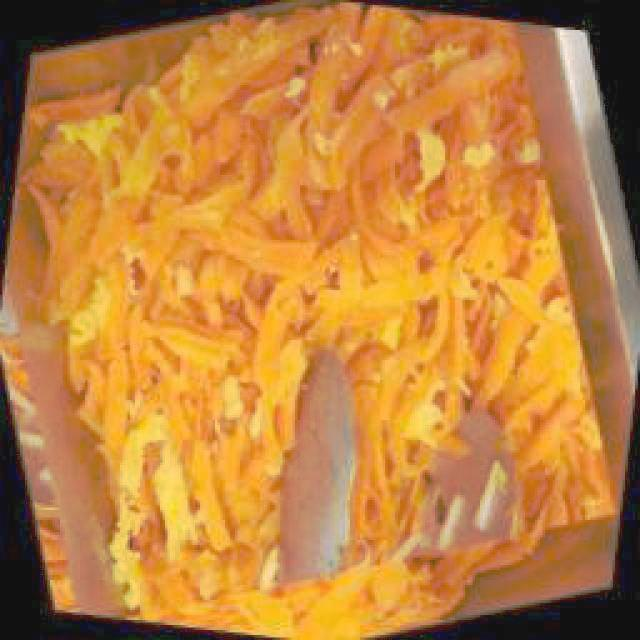carrot_eggs: (8, 1, 607, 620)
